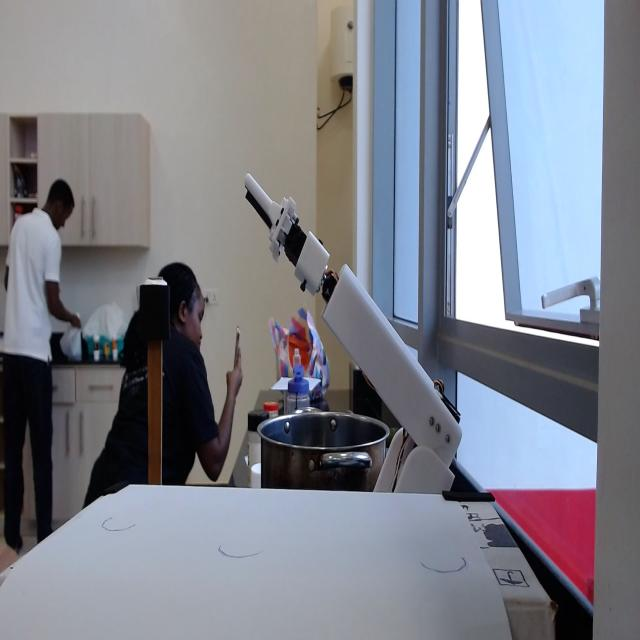cooking_pot: (258, 407, 389, 496)
